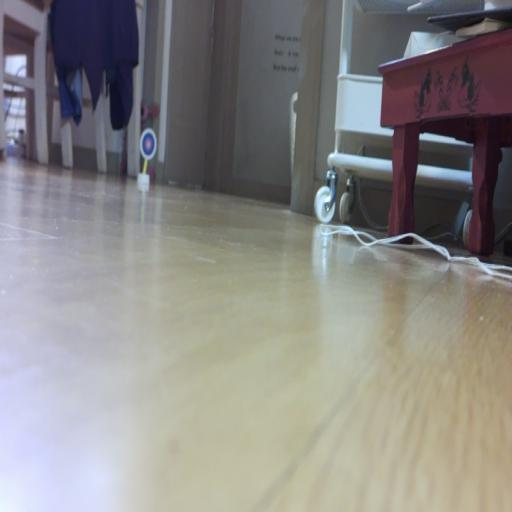target: (140, 128, 157, 161)
